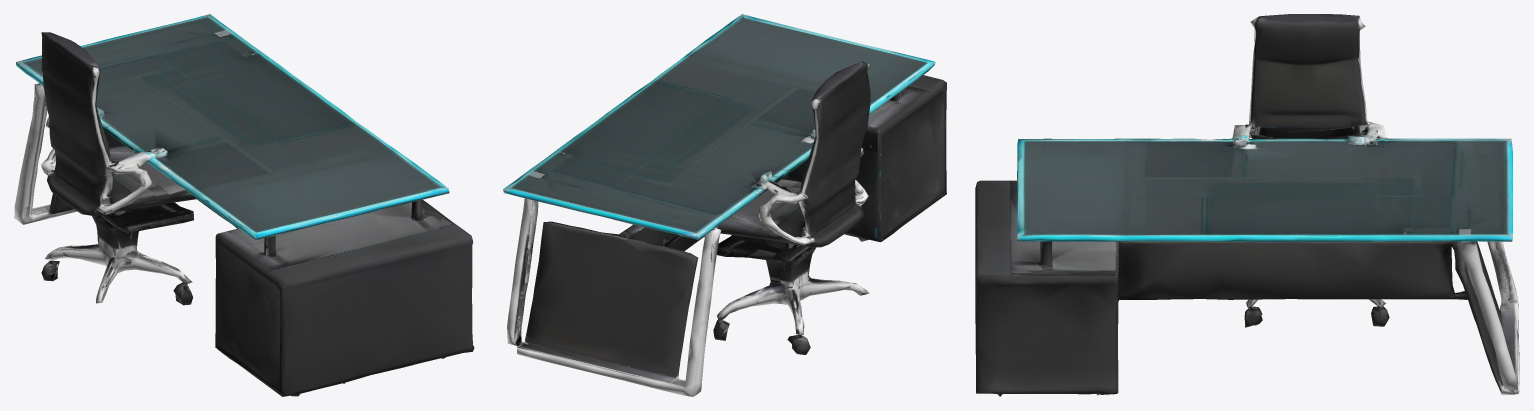
The model's file is minimal_office_furniture_f3fc6e65-1e0d-4382-8bb1-56e9e47542b8.glb.
3 views of the same model, side by side, from view 1: azimuth 30°, elevation 25°; view 2: azimuth 150°, elevation 25°; view 3: azimuth 270°, elevation 25° (orthographic). The views are drawn at different scales.
Parts seen in each view (by area): view 1: world; view 2: world; view 3: world.
Part boxes in pixels (<box>): world: <box>14,14,474,396</box>; world: <box>503,14,946,396</box>; world: <box>975,14,1519,396</box>.
Size of the model in its own units: 1.13 by 1.09 by 2.01.
Materials: 1 (1 with a texture image).
